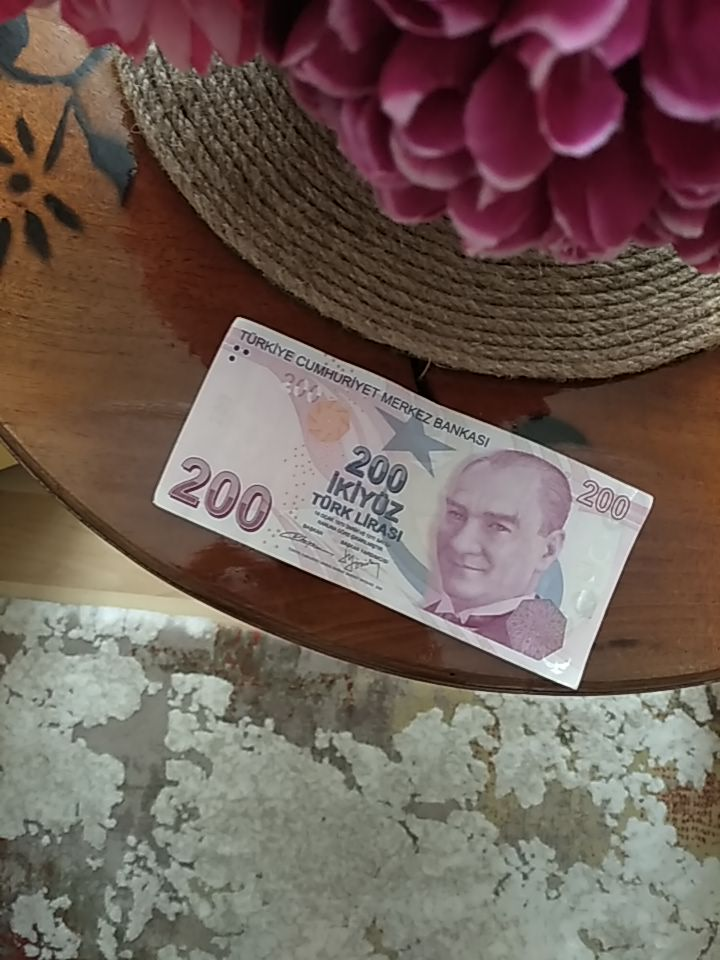200TL: (149, 315, 656, 693)
